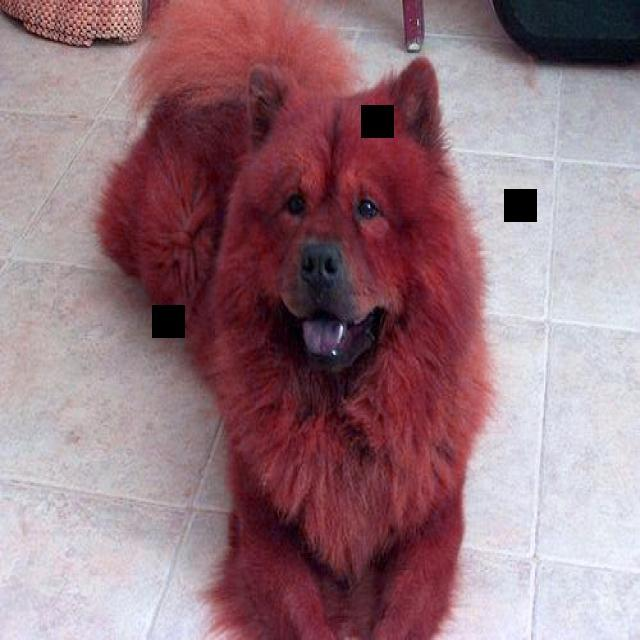adult_dog: (89, 3, 495, 640)
